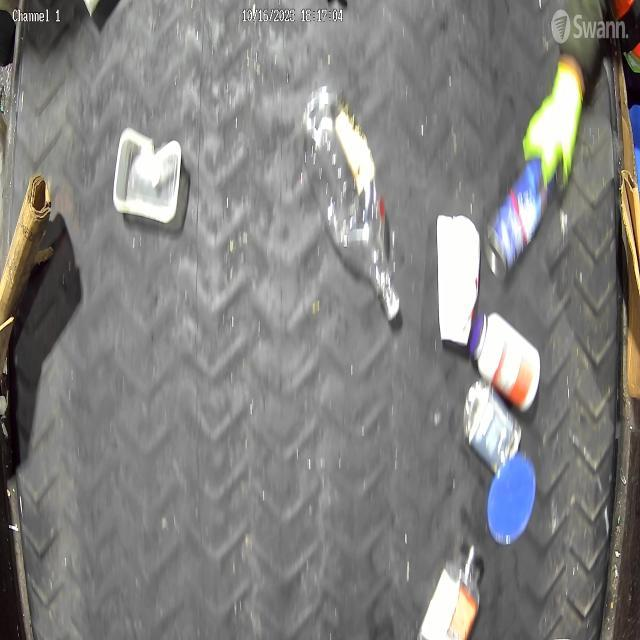can: (486, 160, 558, 280)
plastic_bottle: (302, 88, 401, 318)
